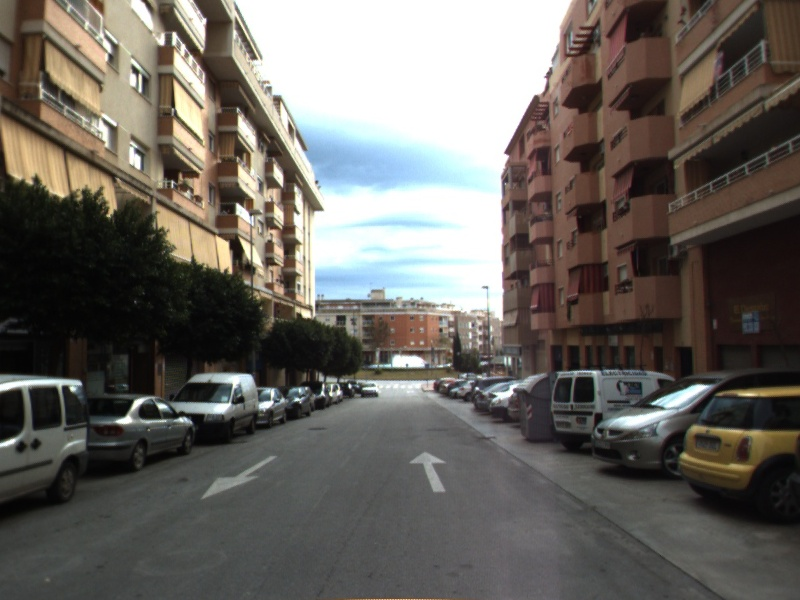STRAIGHT: (407, 449, 449, 494)
